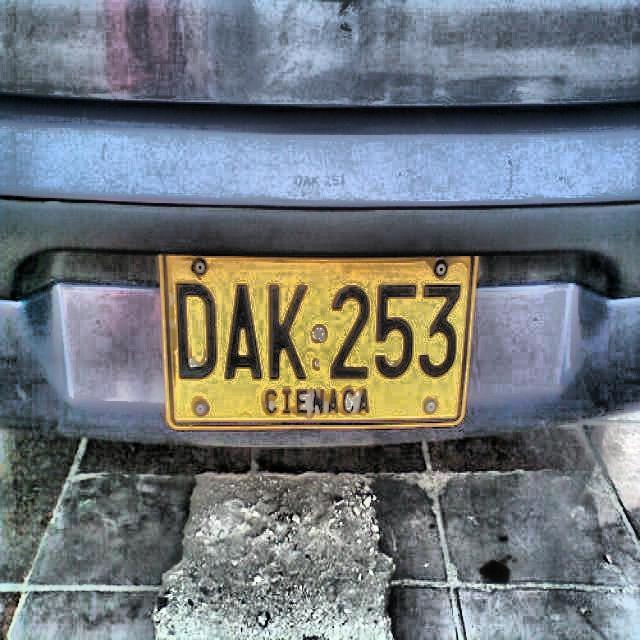plate: (161, 257, 475, 425)
